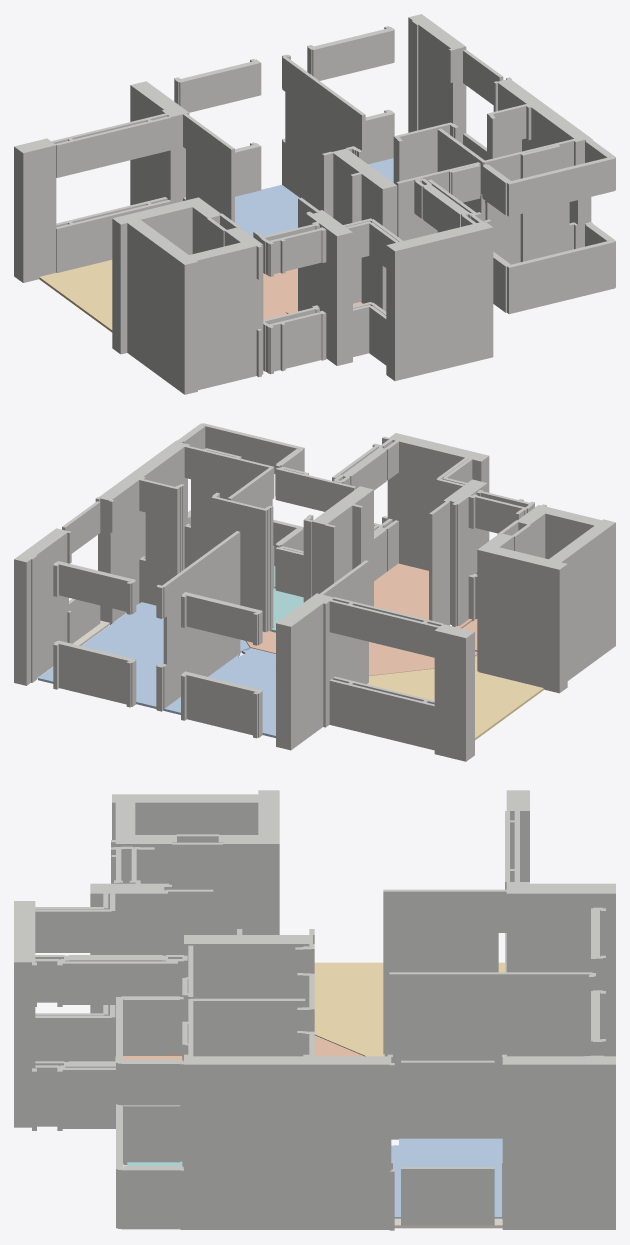
3 renders of one model, top to bottom at view 1: azimuth 30°, elevation 25°; view 2: azimuth 150°, elevation 25°; view 3: azimuth 270°, elevation 25°, orthographic. The views are drawn at different scales.
Parts seen in each view (by area): view 1: walls, room:living:2, room:bedroom:0, room:kitchen:3; view 2: walls, room:bedroom:1, room:living:2, room:bedroom:0, room:kitchen:6, room:kitchen:3, room:bath:4; view 3: walls, room:living:2, room:bedroom:1, room:kitchen:3.
Part boxes in pixels (x1,y1,x2,y2): walls: [14, 14, 615, 394]; room:living:2: [39, 260, 112, 332]; room:bedroom:0: [235, 185, 299, 236]; room:kitchen:3: [263, 268, 362, 319]; walls: [14, 423, 615, 761]; room:bedroom:1: [38, 602, 249, 708]; room:living:2: [367, 655, 543, 740]; room:bedroom:0: [164, 648, 275, 737]; room:kitchen:6: [374, 563, 428, 619]; room:kitchen:3: [245, 619, 477, 675]; room:bath:4: [271, 588, 303, 632]; walls: [14, 790, 615, 1230]; room:living:2: [314, 962, 504, 1056]; room:bedroom:1: [391, 1138, 502, 1218]; room:kitchen:3: [168, 1035, 363, 1056].
Size of the model in its own units: 9.98 by 2.8 by 9.24.
